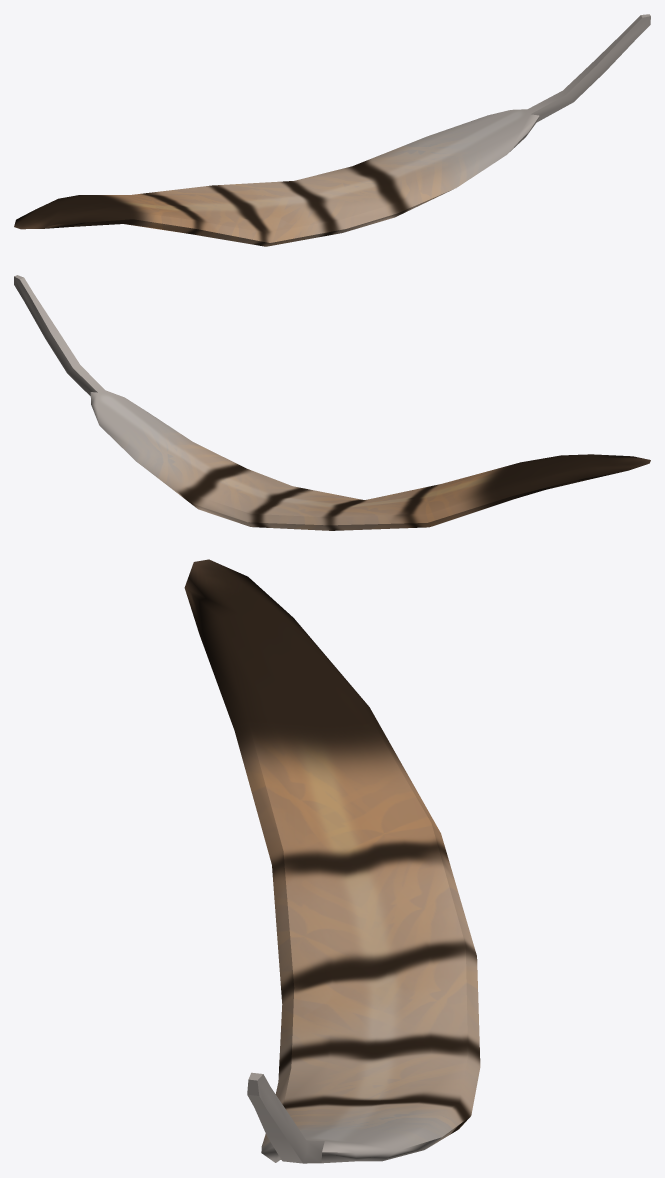
The model's file is feather2.fbx.
3 renders of one model, top to bottom at view 1: azimuth 30°, elevation 25°; view 2: azimuth 150°, elevation 25°; view 3: azimuth 270°, elevation 25°, orthographic. The views are drawn at different scales.
Visible parts, largest first — view 1: pCube2; view 2: pCube2; view 3: pCube2.
Part boxes in pixels (x1,y1,x2,y2): pCube2: [14, 14, 650, 246]; pCube2: [14, 275, 650, 530]; pCube2: [184, 559, 480, 1163].
Bounding box in the file's own units: 7.12 × 1.61 × 1.46.
Materials: 1 (1 with a texture image).
